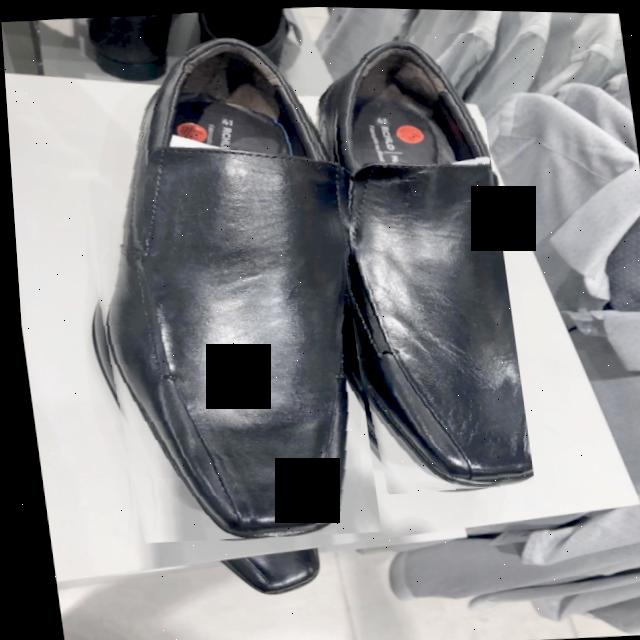shoe: (97, 38, 339, 537), (344, 34, 526, 484)
